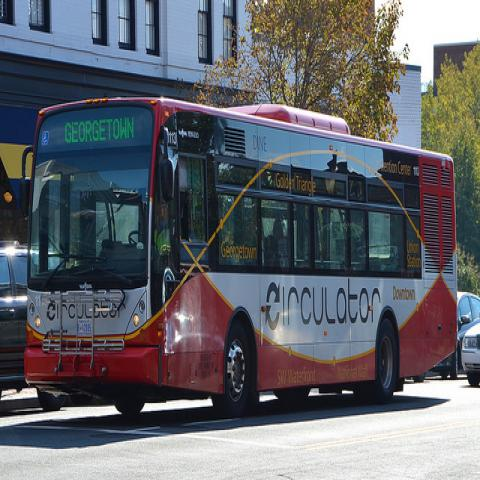bus: (20, 99, 458, 421)
car: (428, 290, 480, 382), (0, 241, 30, 390), (460, 322, 480, 388)
